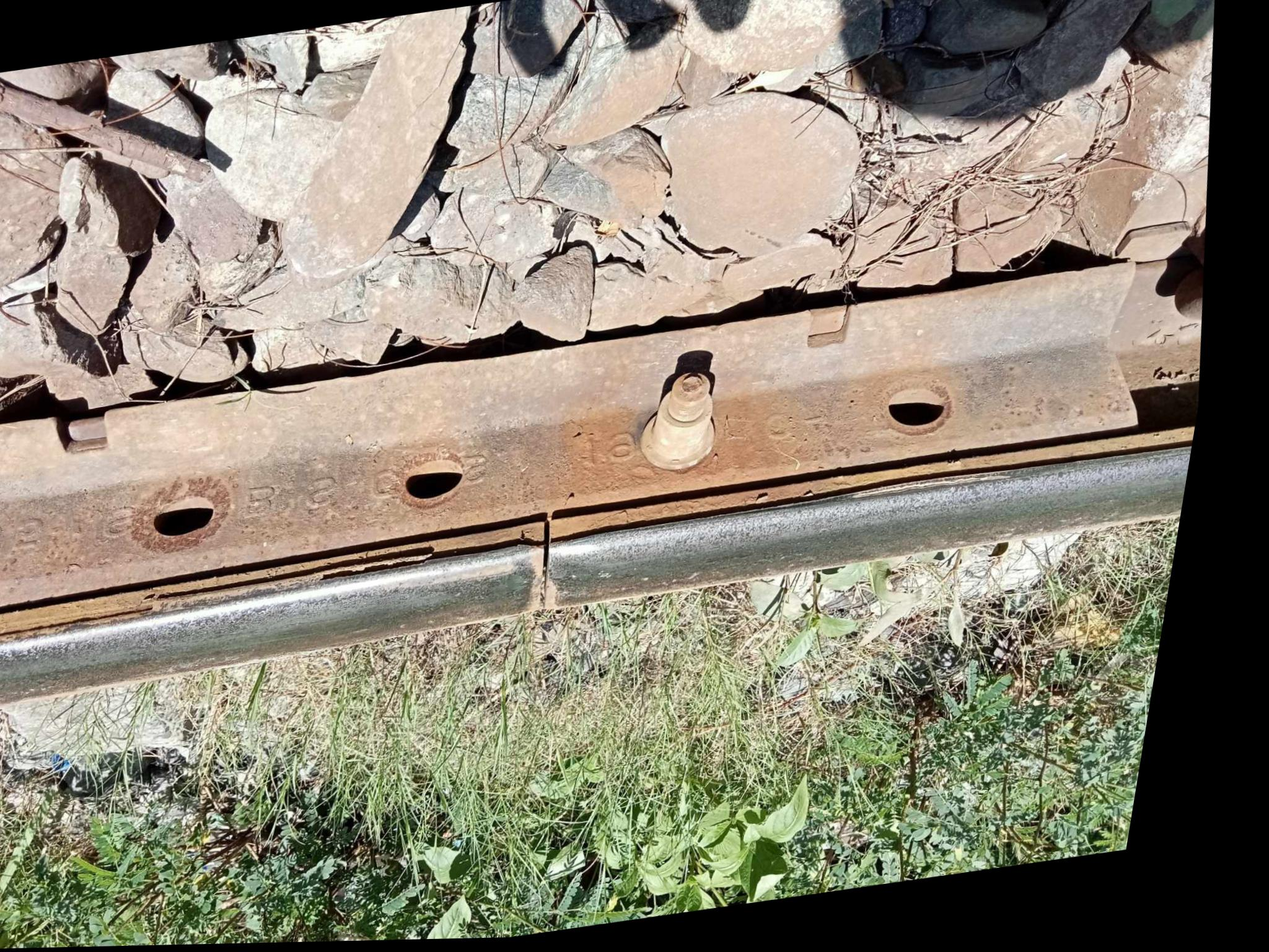person: (457, 480, 666, 672)
